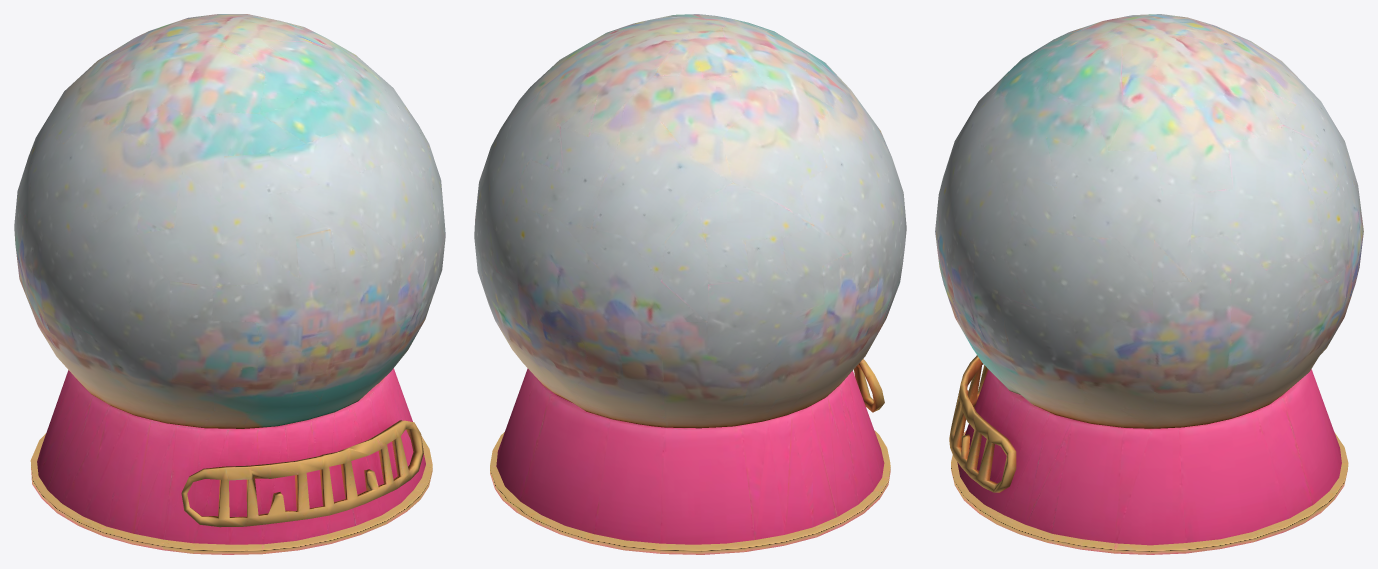
File: dd-snow-globe.glb
3 views of the same model, side by side, from view 1: azimuth 30°, elevation 25°; view 2: azimuth 150°, elevation 25°; view 3: azimuth 270°, elevation 25° (orthographic).
Parts seen in each view (by area): view 1: geometry_0; view 2: geometry_0; view 3: geometry_0.
Part boxes in pixels (bbox=[...]): geometry_0: bbox=[14, 14, 445, 554]; geometry_0: bbox=[474, 14, 906, 554]; geometry_0: bbox=[935, 14, 1363, 554].
Bounding box in the file's own units: 0.9023 × 1 × 0.89.
1 material, 1 textured.
